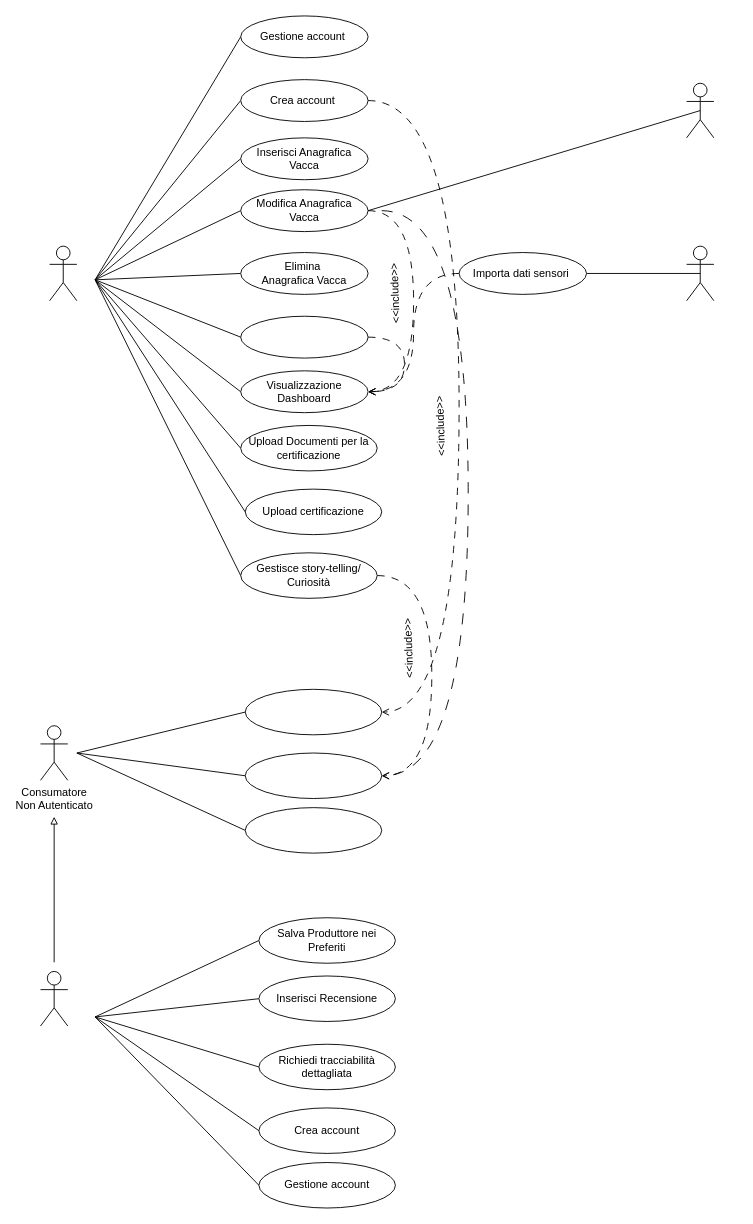
The diagram is 753 pixels wide and 1224 high, and some of its shapes have lost their labels. Each missing label, with the centre of its shape:
"Aggiornamento Dati Filiera" belongs at (304,336).
"Allevatore" belongs at (63,273).
"Consulta lista Produttori Locali" belongs at (313,711).
"Consultazione Prodotto (vista semplice)" belongs at (313,775).
"Consumatore Autenticato" belongs at (54,998).
"Pianficia Percorso" belongs at (313,830).
"Sensori Esterni" belongs at (700,273).
"Veterinario" belongs at (700,110).
